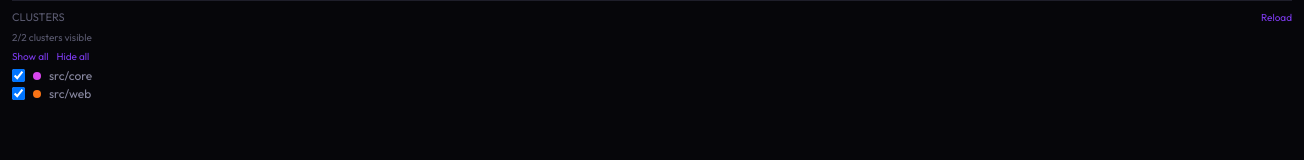
Test: useClusterLegend + ClusterLegend › show all / hide all set the visible set
Expected: the text with test id "cluster-legend-summary" reads "2/2 clusters visible", [12,30,92,44]
Click the button with test id "cluster-legend-hide-all". click: [73, 56]
box: [56,48,89,64]
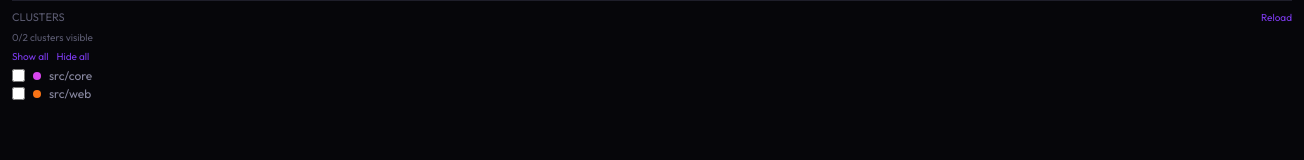
Result: the text with test id "cluster-legend-summary" reads "0/2 clusters visible" at [12,30,93,44]
Click the button with test id "cluster-legend-show-all". click: [30, 56]
box: [12,48,48,64]
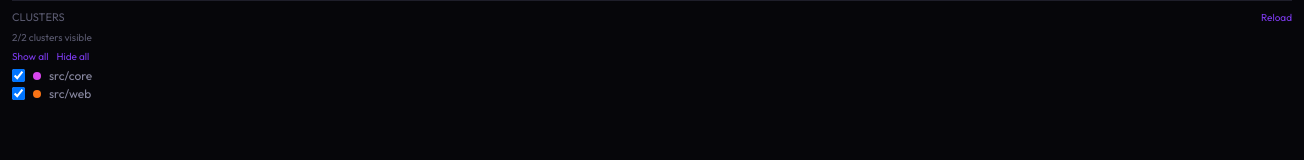
Result: the text with test id "cluster-legend-summary" reads "2/2 clusters visible" at [12,30,92,44]
